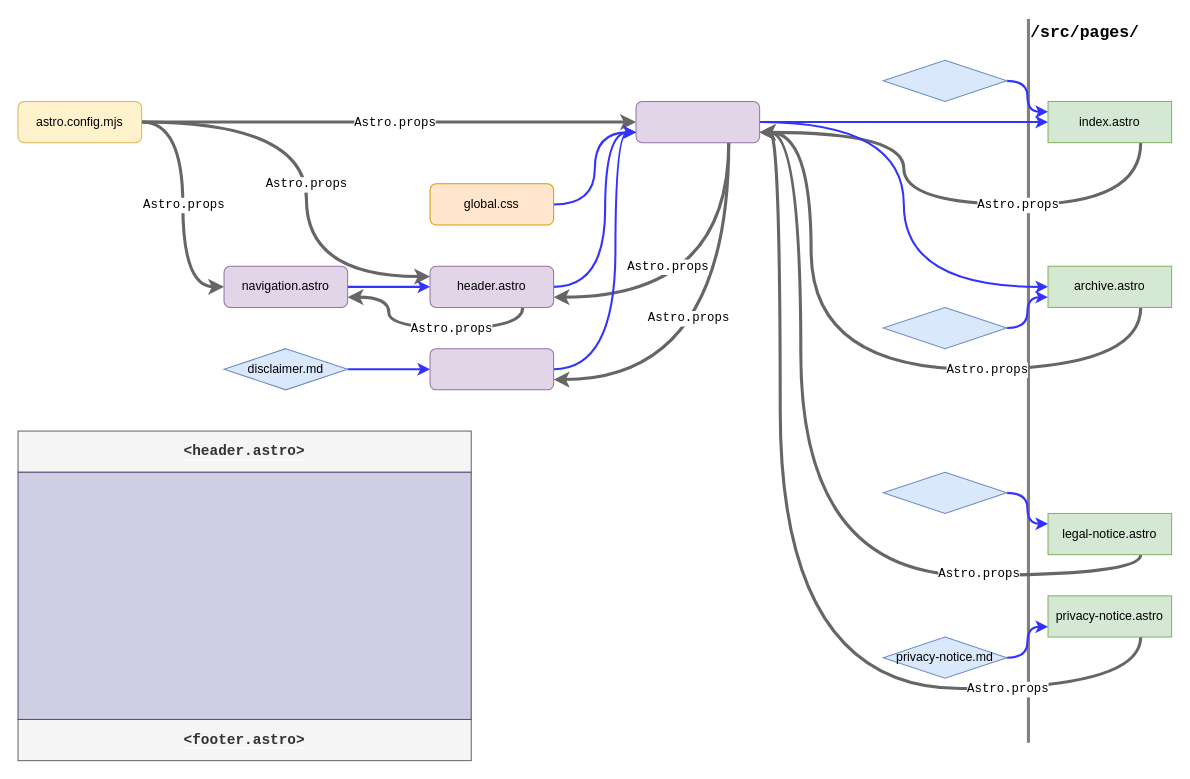
Some shapes in this 1190 by 779 pixel diagram are drawn without their labels. The shapes that lost their labels are listed below. From the top down, each one's box as (x1, y1, x2, y2) in pixels, then its label:
(882, 59, 1007, 101): frontmatter.md
(635, 100, 760, 143): layout.astro
(882, 306, 1007, 349): archivelinks.md
(429, 348, 554, 390): footer.astro
(882, 471, 1007, 513): legal-notice.md
(17, 471, 471, 719): <index.astro>
